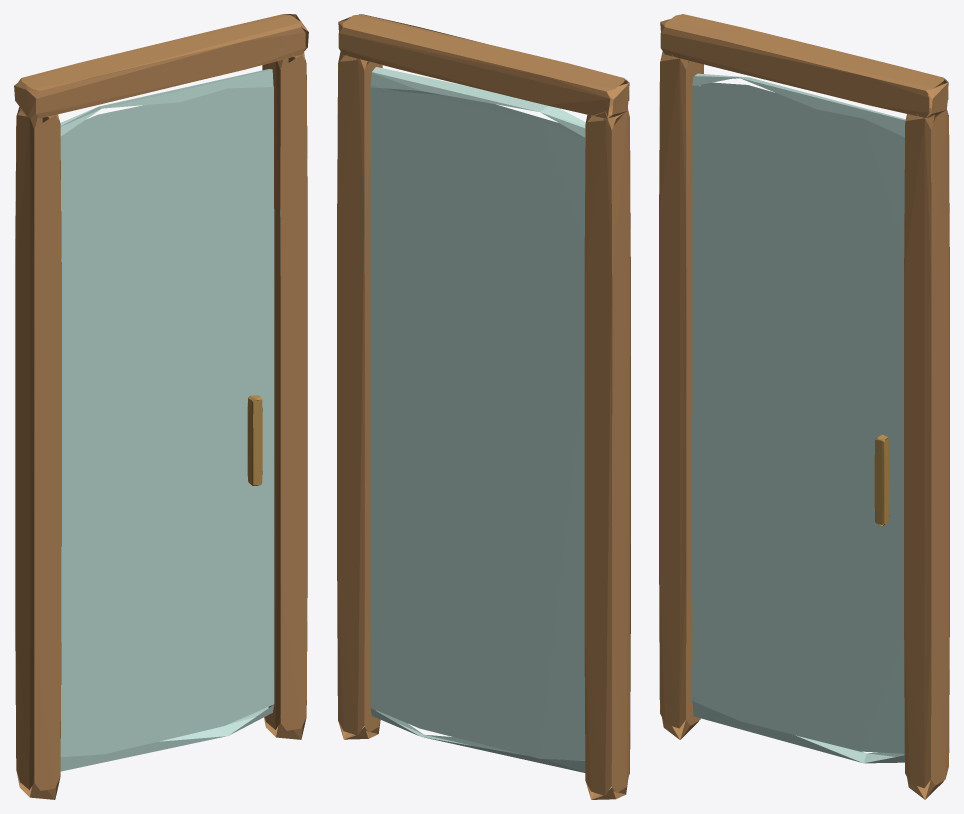
The model's file is good.glb.
3 renders of one model, left to right at view 1: azimuth 30°, elevation 25°; view 2: azimuth 150°, elevation 25°; view 3: azimuth 330°, elevation 25°, orthographic.
Visible parts, largest first — view 1: Native component 3, Native component 0, Native component 4; view 2: Native component 3, Native component 0; view 3: Native component 3, Native component 0, Native component 4.
Part boxes in pixels (bbox=[...]): Native component 3: bbox=[60, 69, 280, 771]; Native component 0: bbox=[14, 14, 308, 799]; Native component 4: bbox=[247, 395, 262, 485]; Native component 3: bbox=[364, 67, 585, 772]; Native component 0: bbox=[337, 14, 630, 799]; Native component 3: bbox=[686, 73, 905, 763]; Native component 0: bbox=[659, 14, 949, 799]; Native component 4: bbox=[874, 434, 889, 526].
Size of the model in its own units: 0.9766 by 2.38 by 0.1227.
